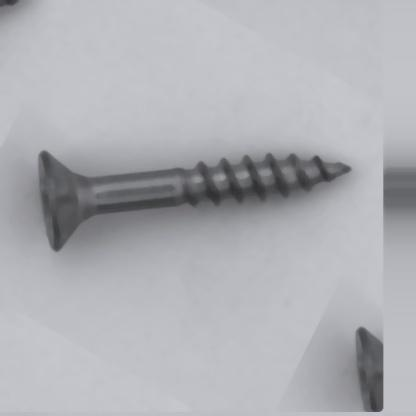metal: (36, 148, 352, 251)
